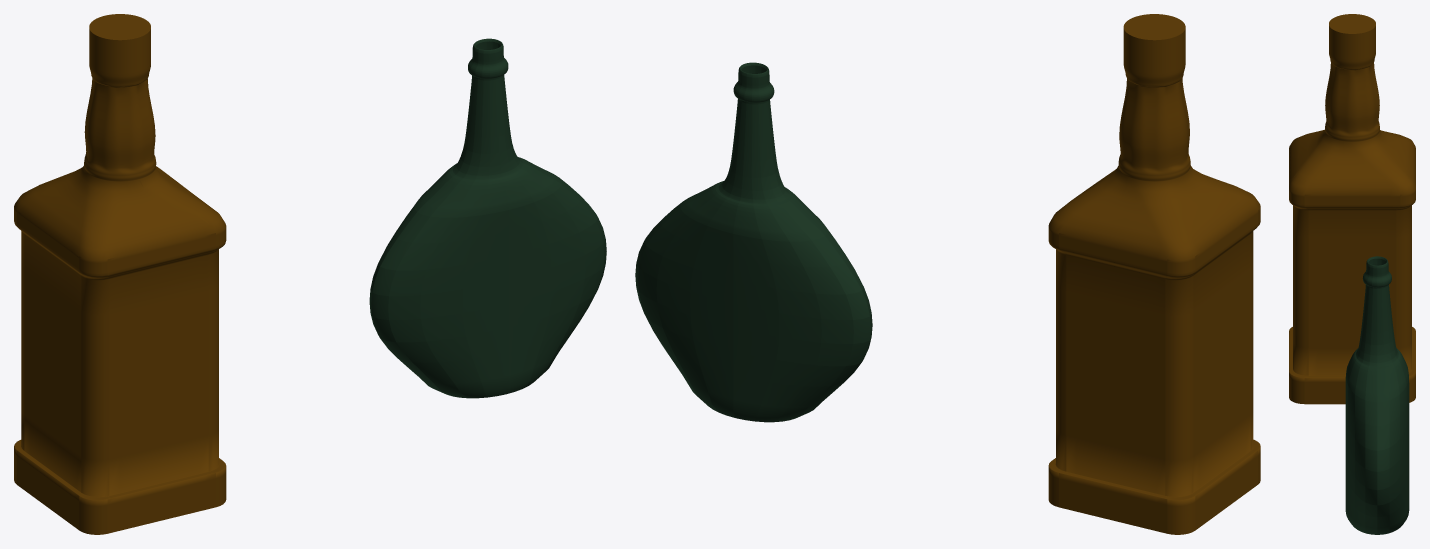
Rendered from Special_Bottles.FBX.
The picture shows the model from 3 angles, left to right: view 1: azimuth 30°, elevation 25°; view 2: azimuth 150°, elevation 25°; view 3: azimuth 270°, elevation 25°; orthographic projection. The views are drawn at different scales.
Visible parts, largest first — view 1: Whiskey_Bottle, Beer_Bottle001; view 2: Whiskey_Bottle, Beer_Bottle001; view 3: Whiskey_Bottle, Beer_Bottle001.
Boxes of the visible parts, bbox=[...] form: Whiskey_Bottle: bbox=[14, 14, 226, 534]; Beer_Bottle001: bbox=[369, 38, 606, 398]; Whiskey_Bottle: bbox=[1048, 14, 1260, 534]; Beer_Bottle001: bbox=[635, 62, 872, 422]; Whiskey_Bottle: bbox=[1289, 14, 1415, 404]; Beer_Bottle001: bbox=[1345, 256, 1409, 534].
Size of the model in its own units: 0.6615 by 0.5107 by 0.1661.
